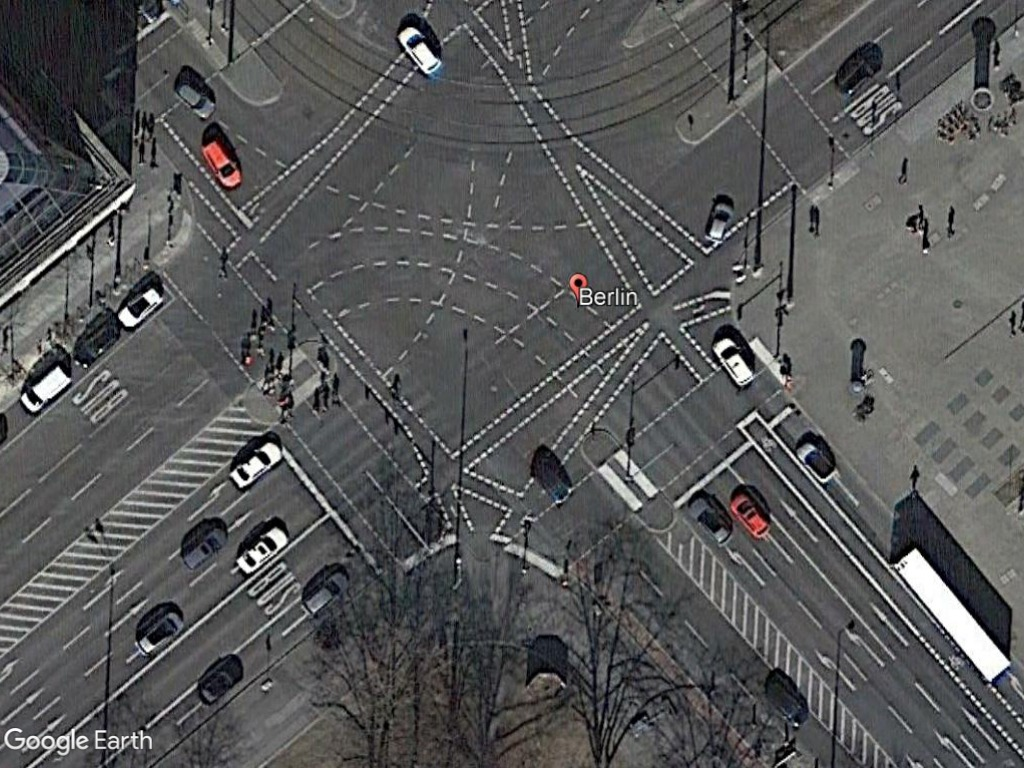car: (229, 520, 295, 576), (224, 438, 287, 495), (115, 277, 170, 335), (133, 605, 187, 664), (195, 650, 251, 706), (193, 135, 248, 190), (393, 21, 443, 81), (182, 520, 237, 574), (712, 332, 760, 393), (299, 565, 354, 618), (727, 486, 779, 542), (686, 493, 738, 545), (790, 437, 840, 488), (169, 79, 224, 120), (701, 199, 737, 247)
longvehicle: (886, 539, 1019, 691)
van: (15, 356, 74, 417)
